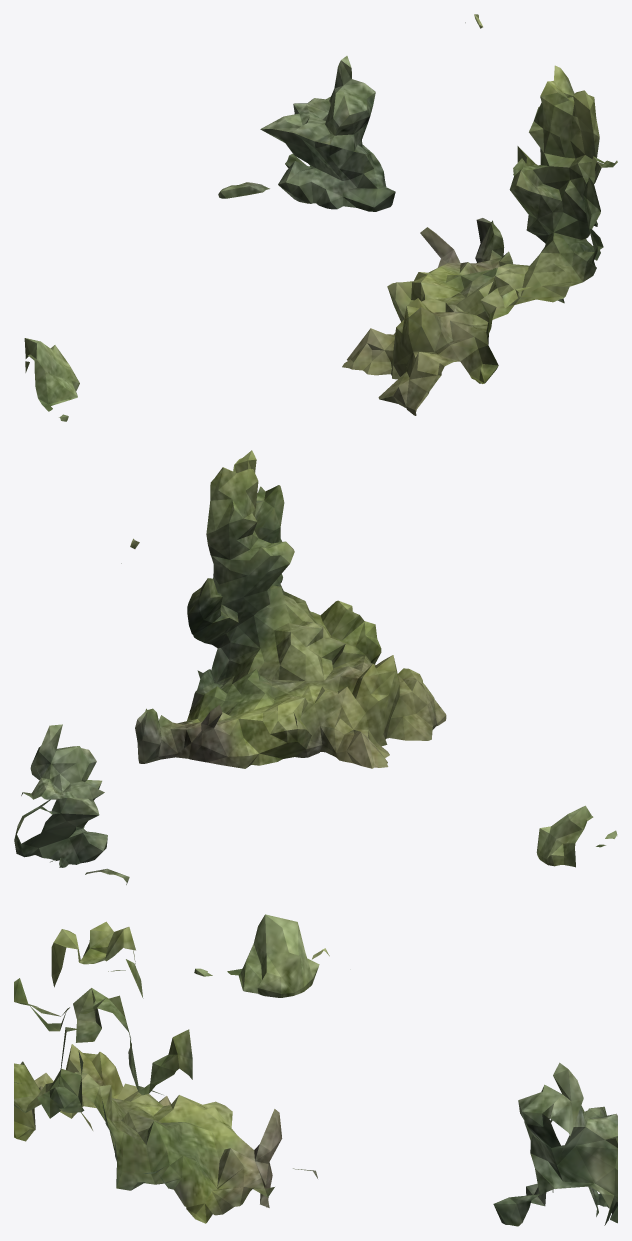
3 views of the same model, one above another, from view 1: azimuth 30°, elevation 25°; view 2: azimuth 150°, elevation 25°; view 3: azimuth 270°, elevation 25° (orthographic). The views are drawn at different scales.
Bounding box in the file's own units: 23.6 × 12.68 × 23.6.
2 materials, 2 textured.
